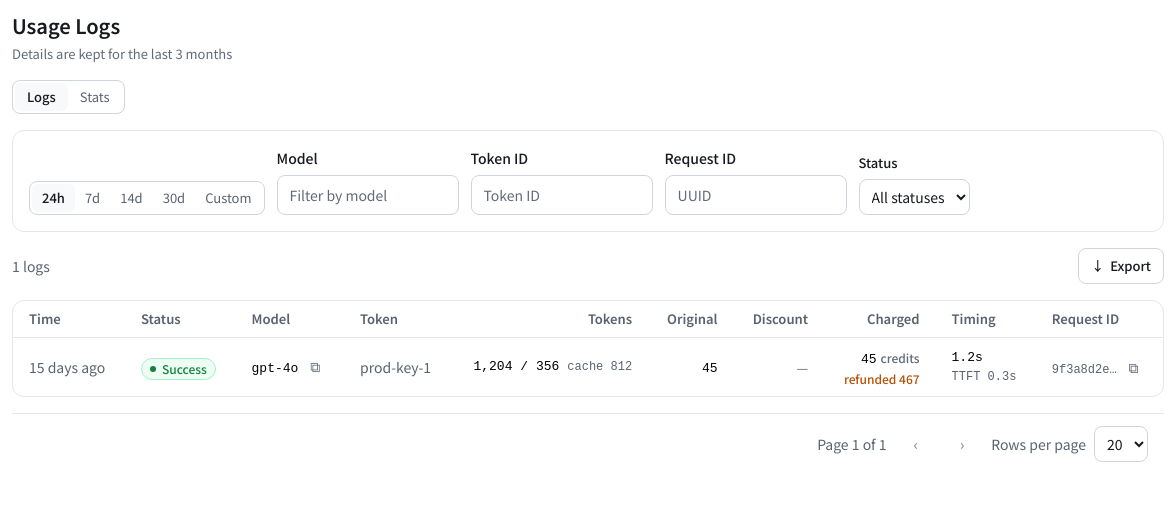
Test: usage logs list › blocks an invalid request ID and shows a field error
Check: the text "gpt-4o" is shown, box [252,361,298,376]
In the field labelled "Request ID": coordinates (756, 195) [664,175,846,215], type "not-a-uuid"
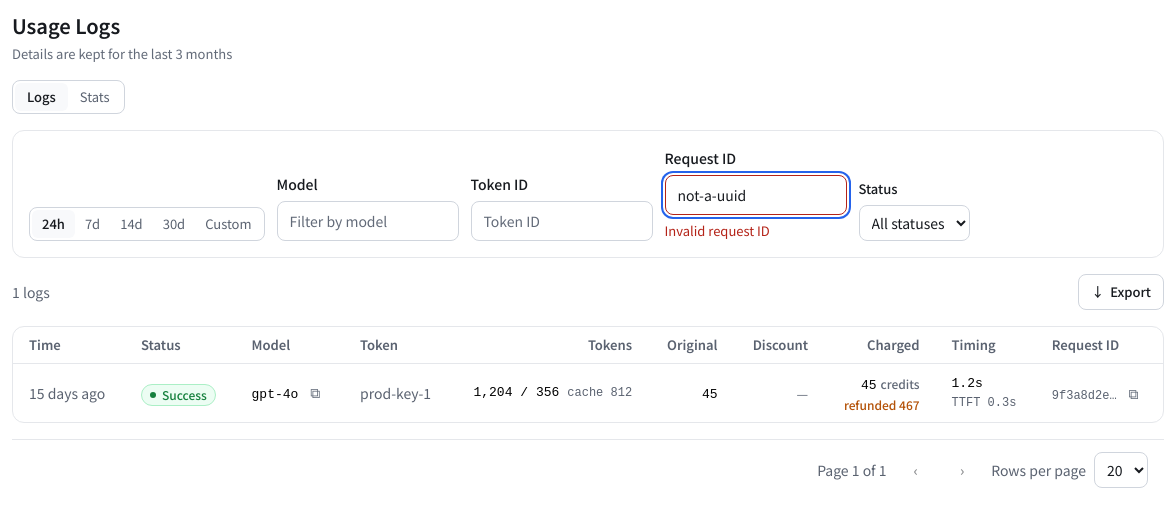
Check: the text "Invalid request ID" is shown, box [664,221,770,240]
